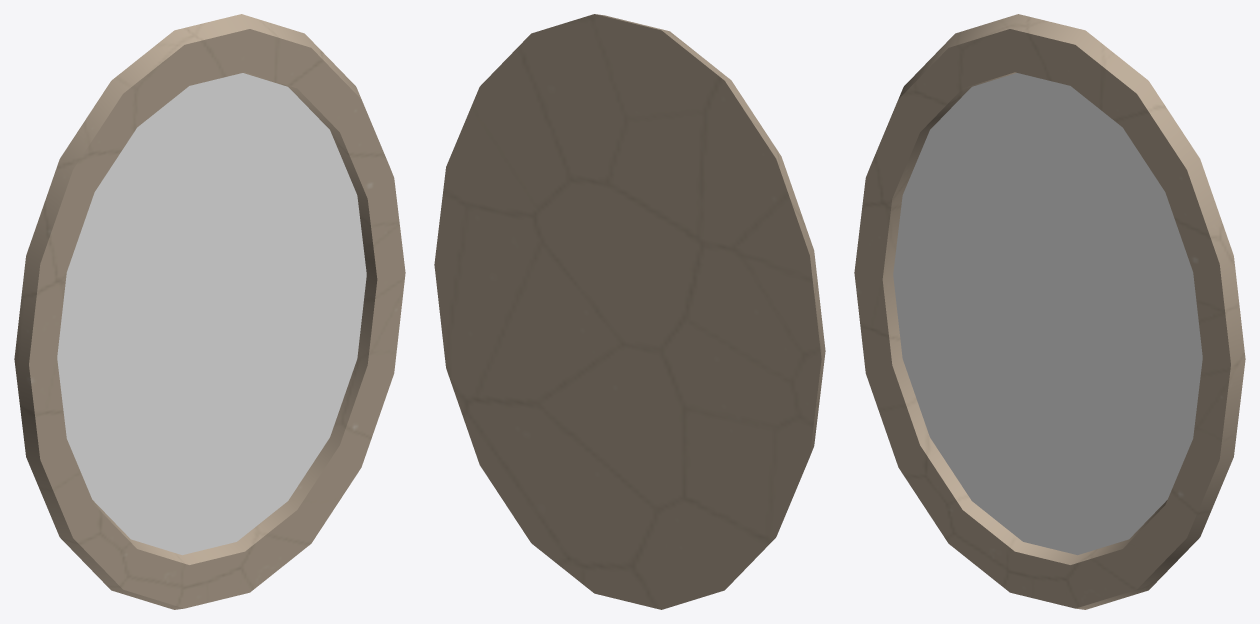
File: Mirror.fbx
3 views of the same model, side by side, from view 1: azimuth 30°, elevation 25°; view 2: azimuth 150°, elevation 25°; view 3: azimuth 330°, elevation 25° (orthographic).
Visible parts, largest first — view 1: Mirror; view 2: Mirror; view 3: Mirror.
Boxes of the visible parts, x1,y1,x2,y2 form: Mirror: (14, 14, 405, 609); Mirror: (434, 14, 825, 609); Mirror: (854, 14, 1245, 609).
Bounding box in the file's own units: 0.608 × 0.8696 × 0.0252.
